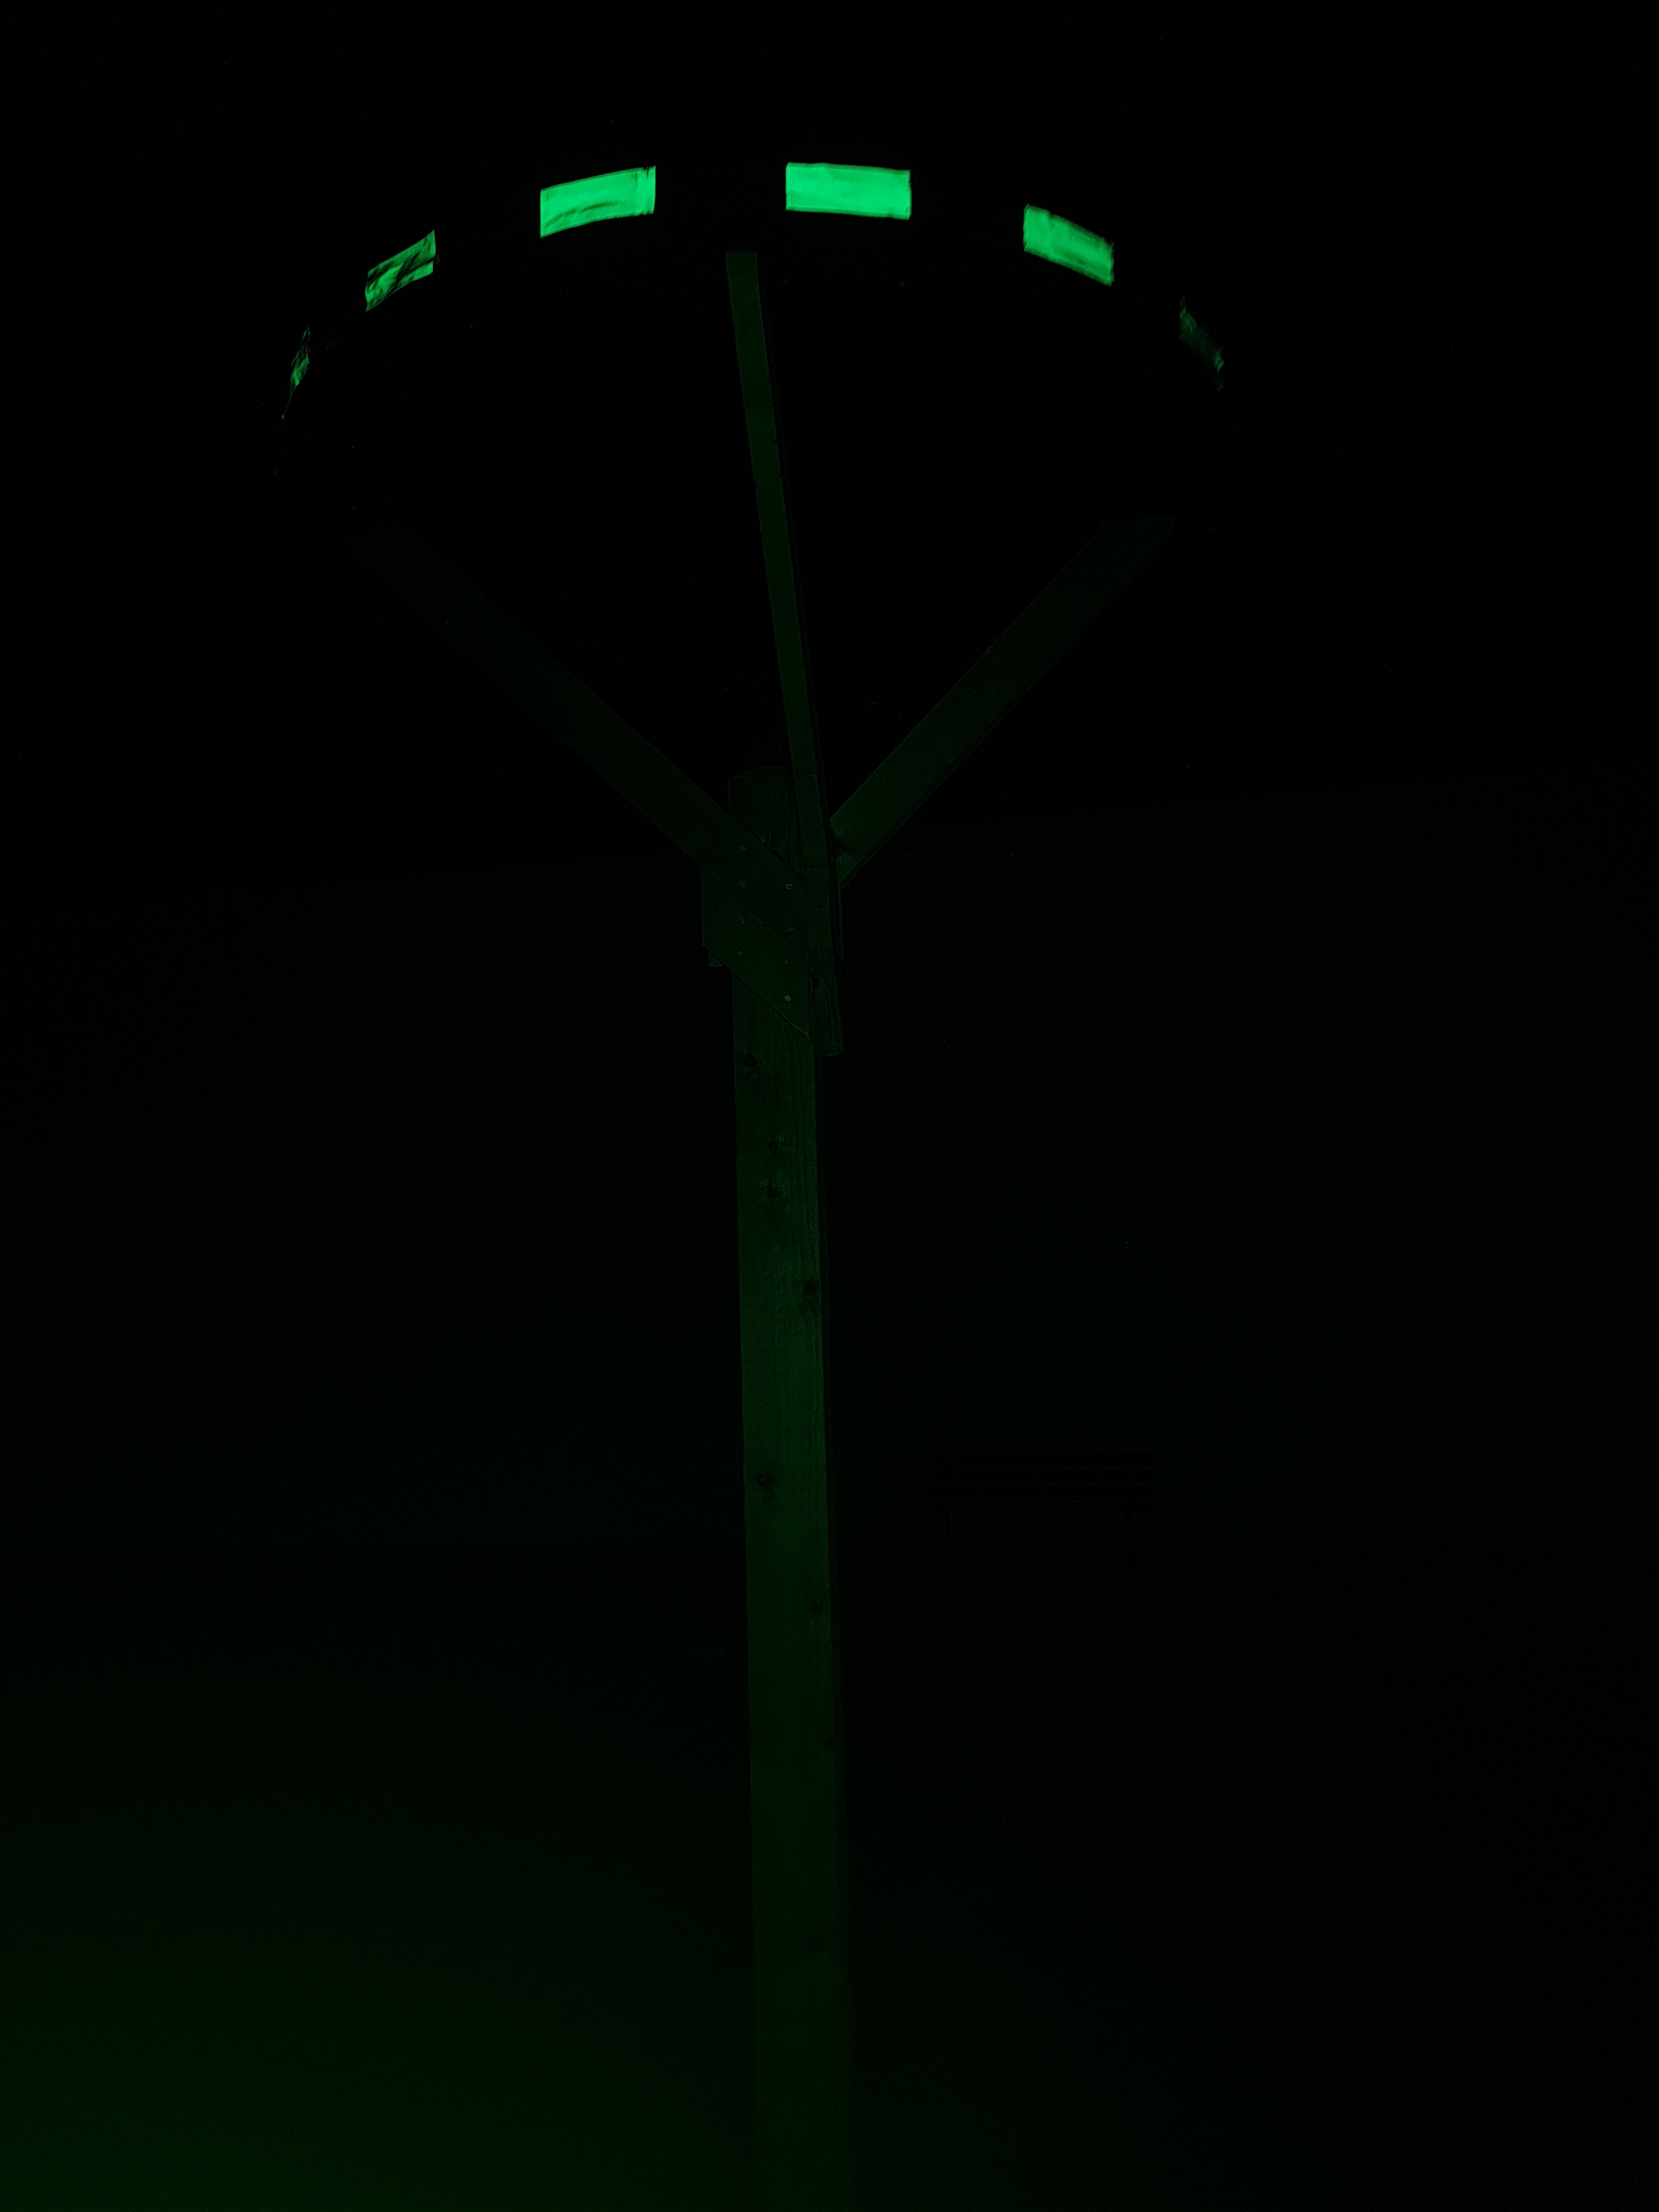hoop: (282, 152, 1229, 390)
